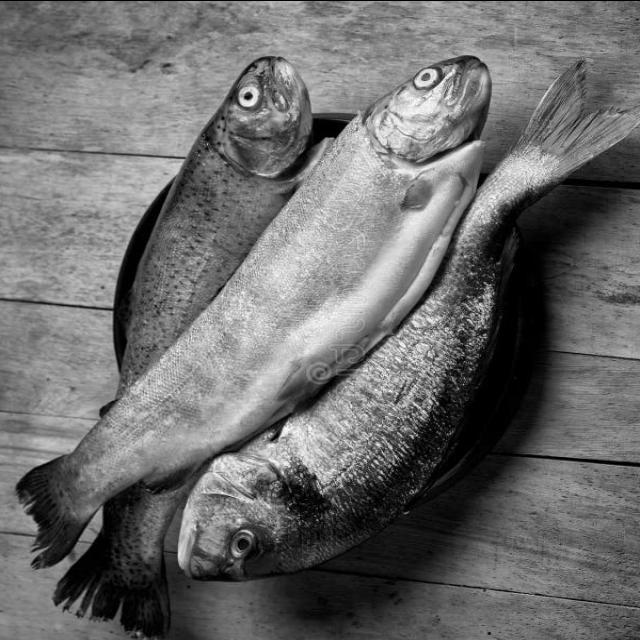fish: (16, 58, 488, 566), (177, 62, 639, 579), (99, 54, 333, 416), (52, 467, 195, 639)
